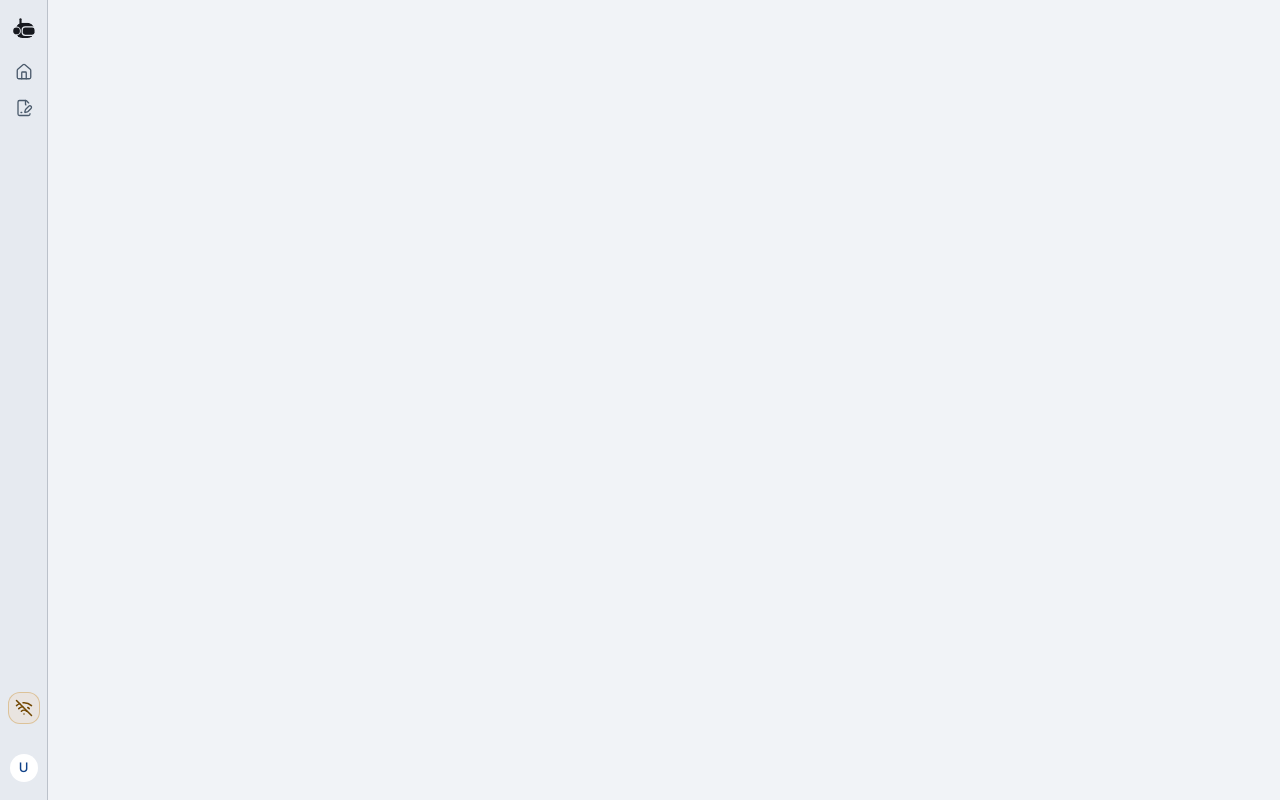
it: AppSidebar sidebar › hides account switching when login availability is false
This screenshot has width=1280, height=800.
// opening the profile menu.
Click the button named "Open profile menu".
click(24, 768)  # box [4,748,44,788]
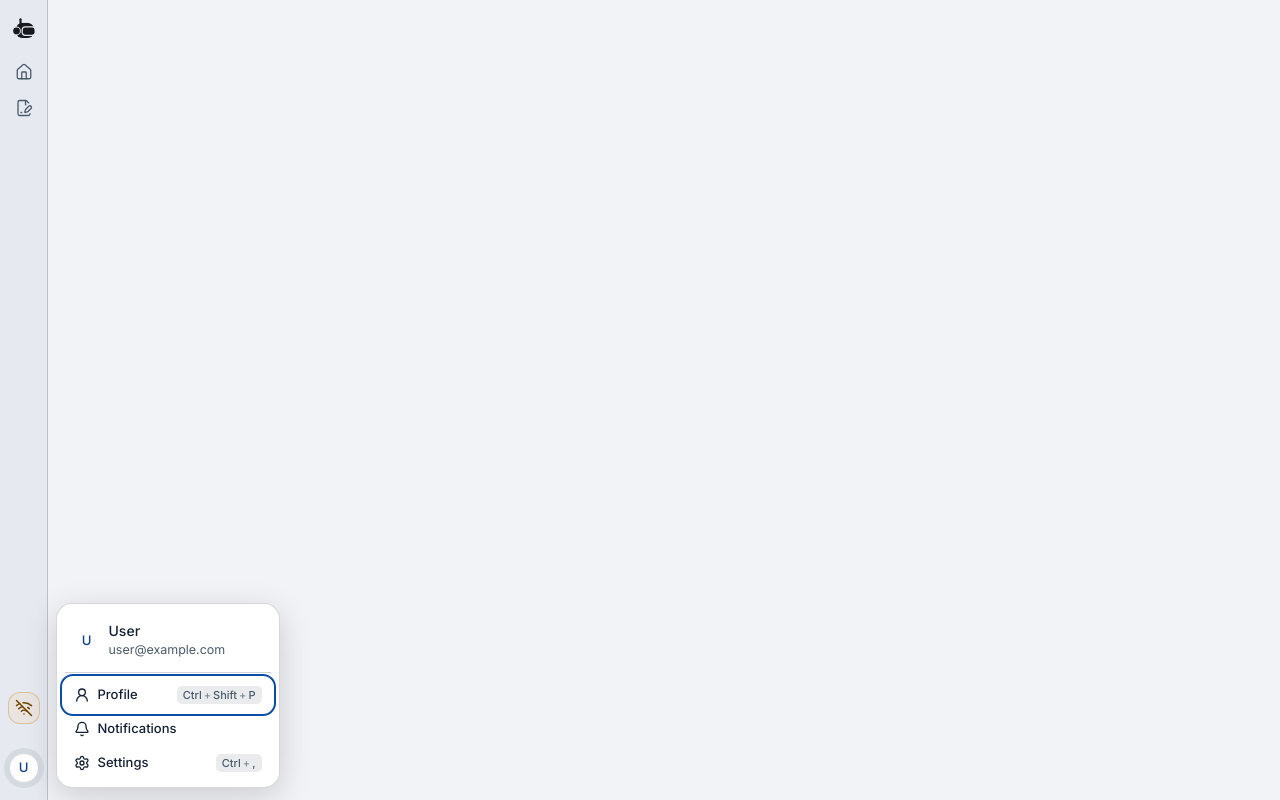
Result: the text "user@example.com" is shown at [108,642,225,657]
Result: the link "Settings Ctrl + ," is shown at [74,754,262,772]
